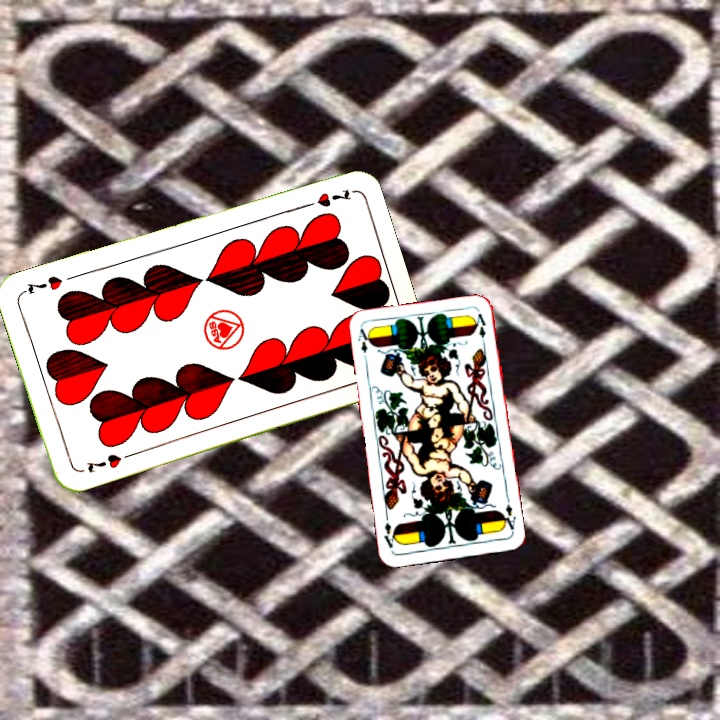EA: (354, 324, 374, 365), (498, 500, 518, 536)
H7: (297, 185, 353, 212), (82, 449, 134, 476)
